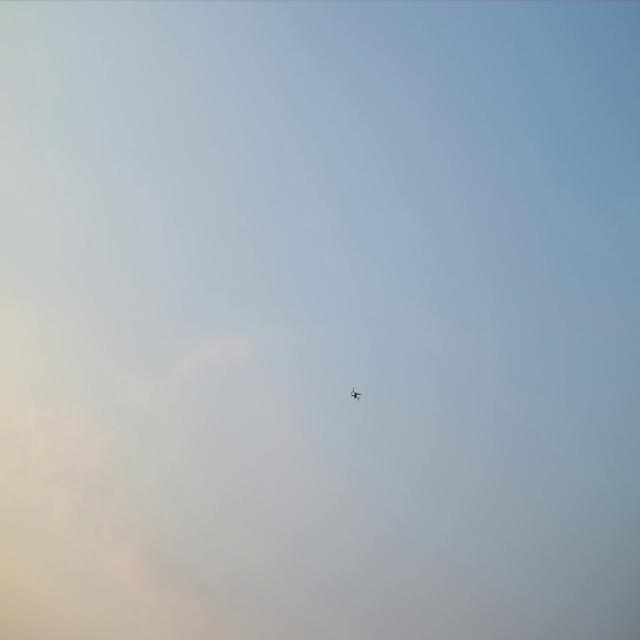UAV: (352, 390, 360, 399)
